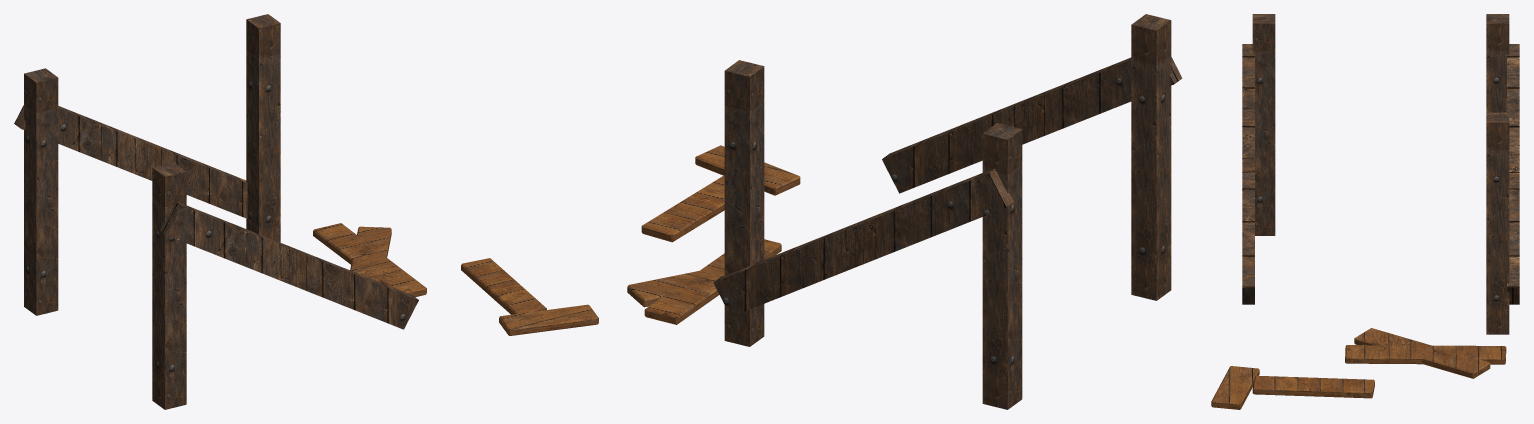
File: broken-crate-v01.glb
3 renders of one model, left to right at view 1: azimuth 30°, elevation 25°; view 2: azimuth 150°, elevation 25°; view 3: azimuth 270°, elevation 25°, orthographic. The views are drawn at different scales.
Parts seen in each view (by area): view 1: broken-crate; view 2: broken-crate; view 3: broken-crate.
Part boxes in pixels (bbox=[...]): broken-crate: bbox=[14, 14, 598, 409]; broken-crate: bbox=[627, 14, 1182, 409]; broken-crate: bbox=[1211, 14, 1519, 409].
Size of the model in its own units: 1.74 by 0.92 by 1.21.
2 materials, 2 textured.
